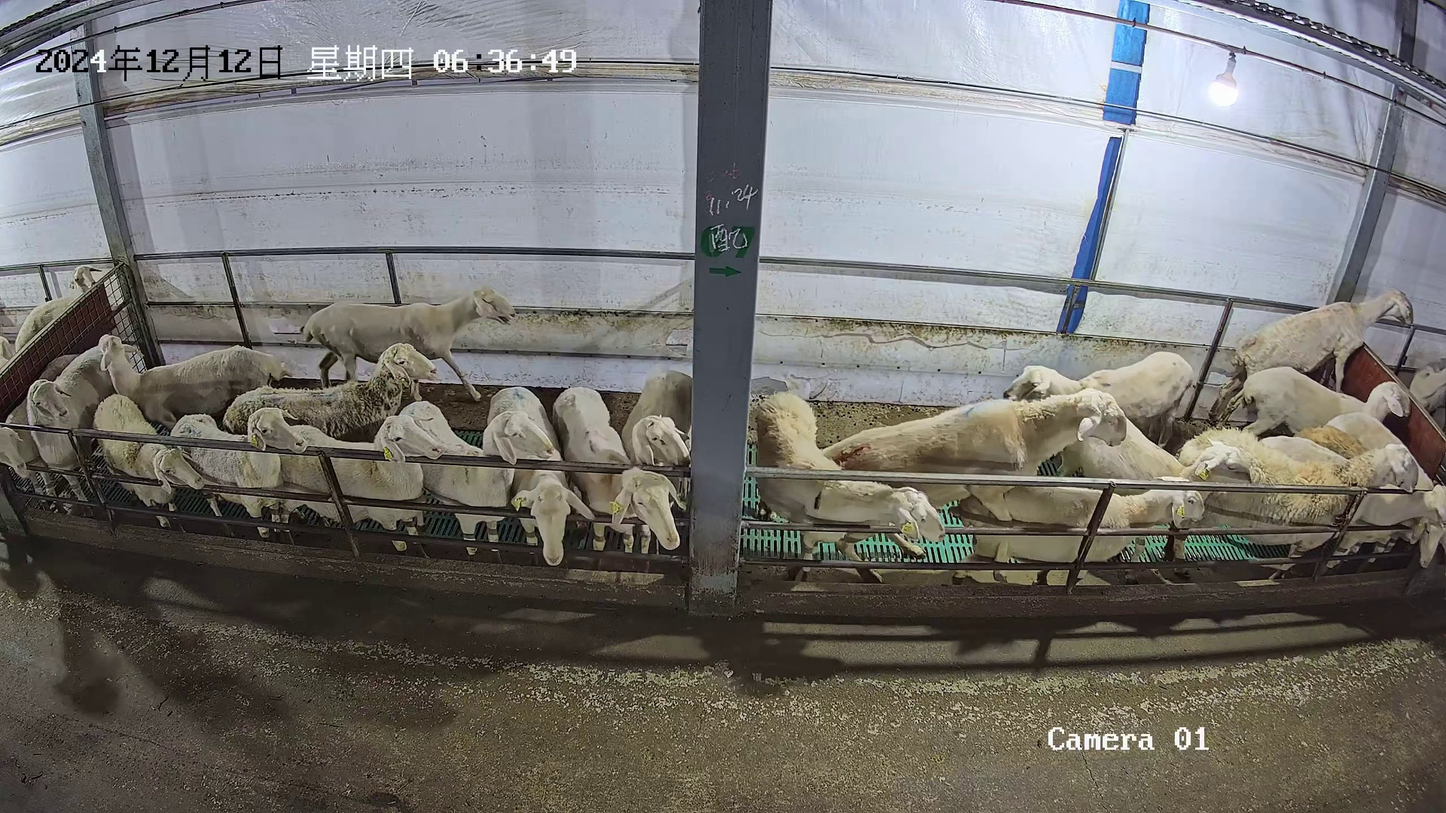Smounting: (817, 384, 1210, 589)
mounted: (948, 473, 1206, 585)
